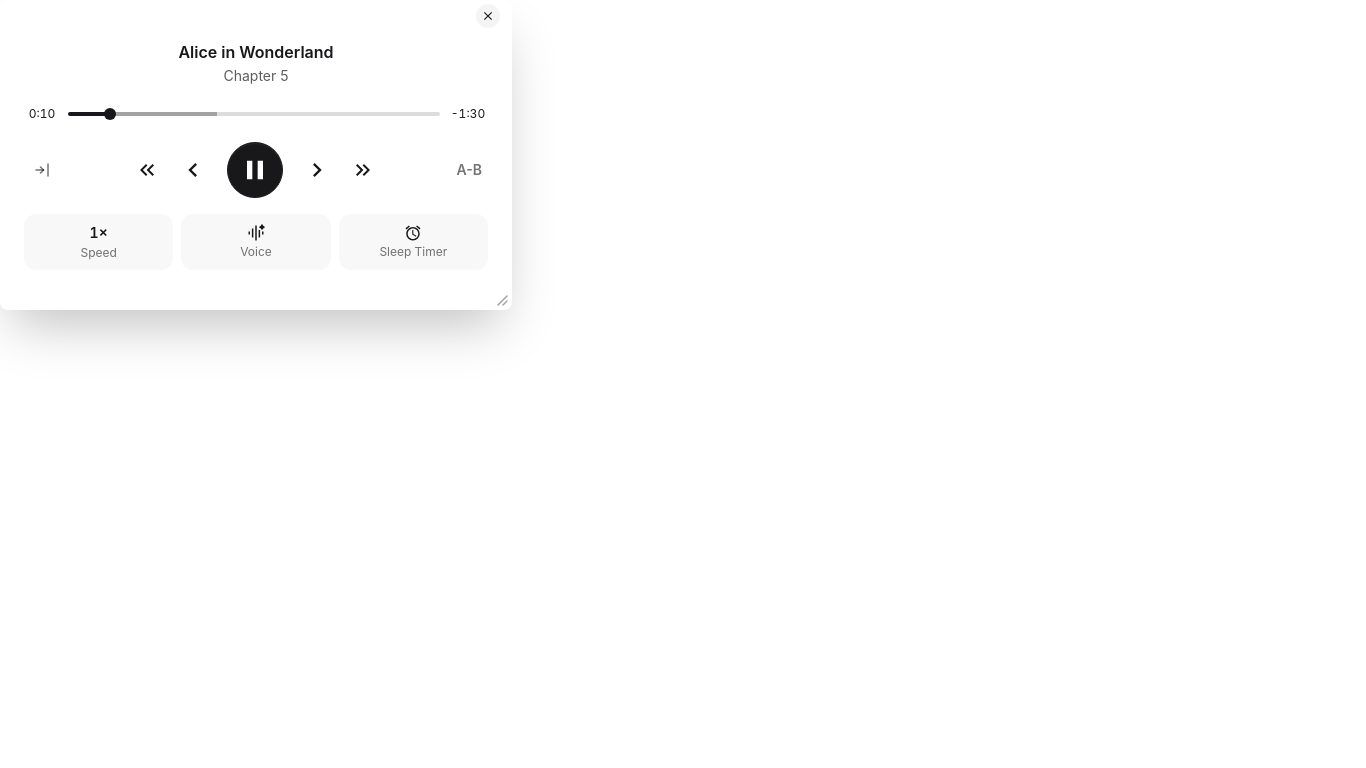
Test: TTSPlayerSheet › voice groups form an accordion opened on the current voice, foldable
The image size is (1366, 768).
Click the button labelled "Voice" at (256, 242), box [181,214,331,270]
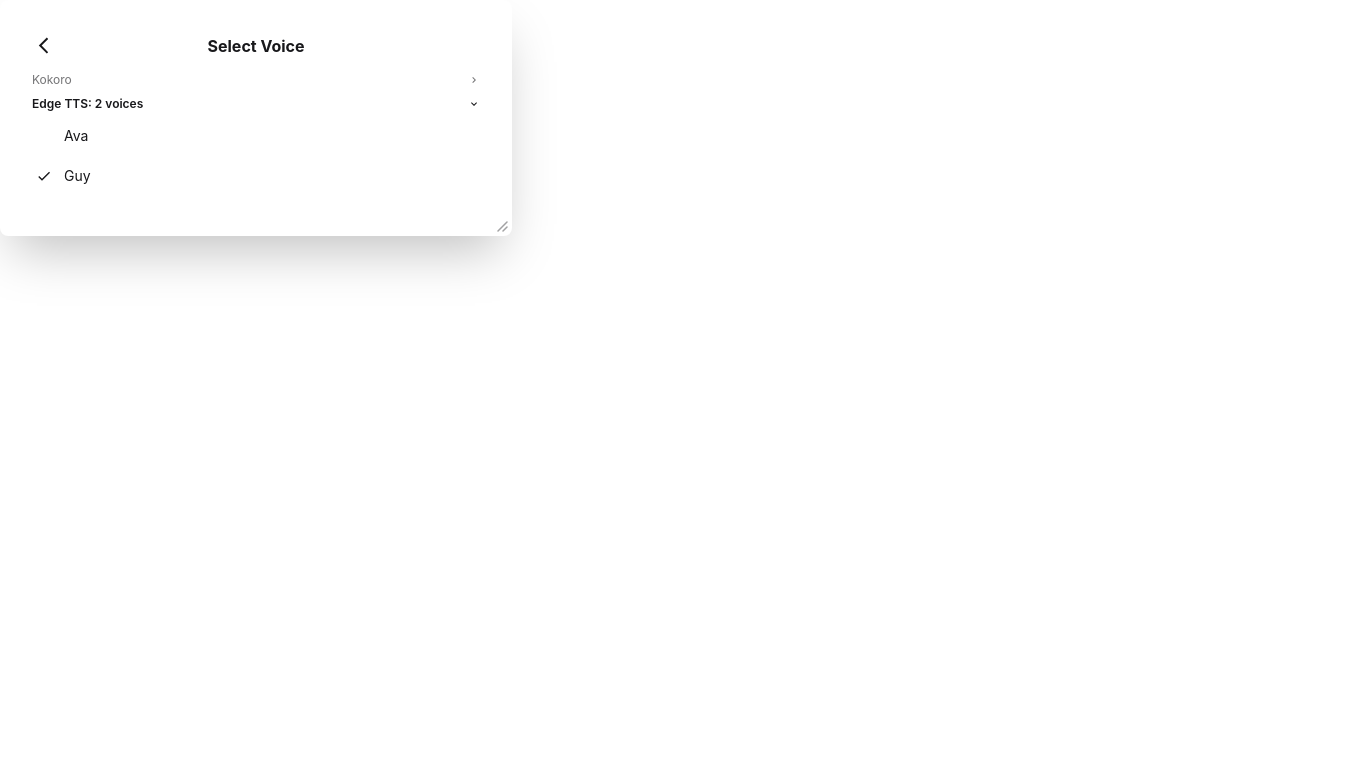
expect the text "af_heart" is not shown: met
expect the text "Guy" is shown: met, box [64,166,91,186]
Click the button "Kokoro" at (52, 80), box [24,68,488,92]
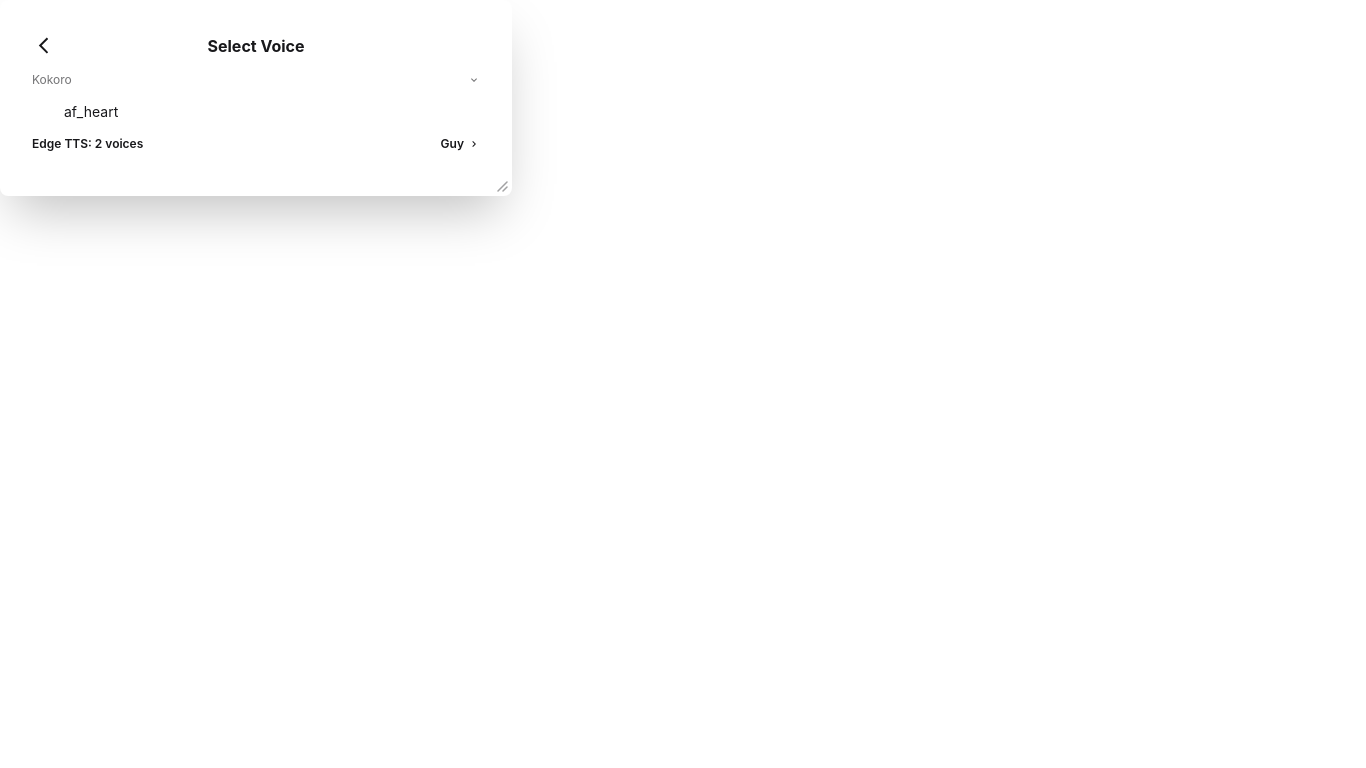
expect the text "af_heart" is shown: met, box [64,102,118,122]
Note: Tapping the open group folds it: at most one group is open.
Click the button "Kokoro" at (52, 80), box [24,68,488,92]
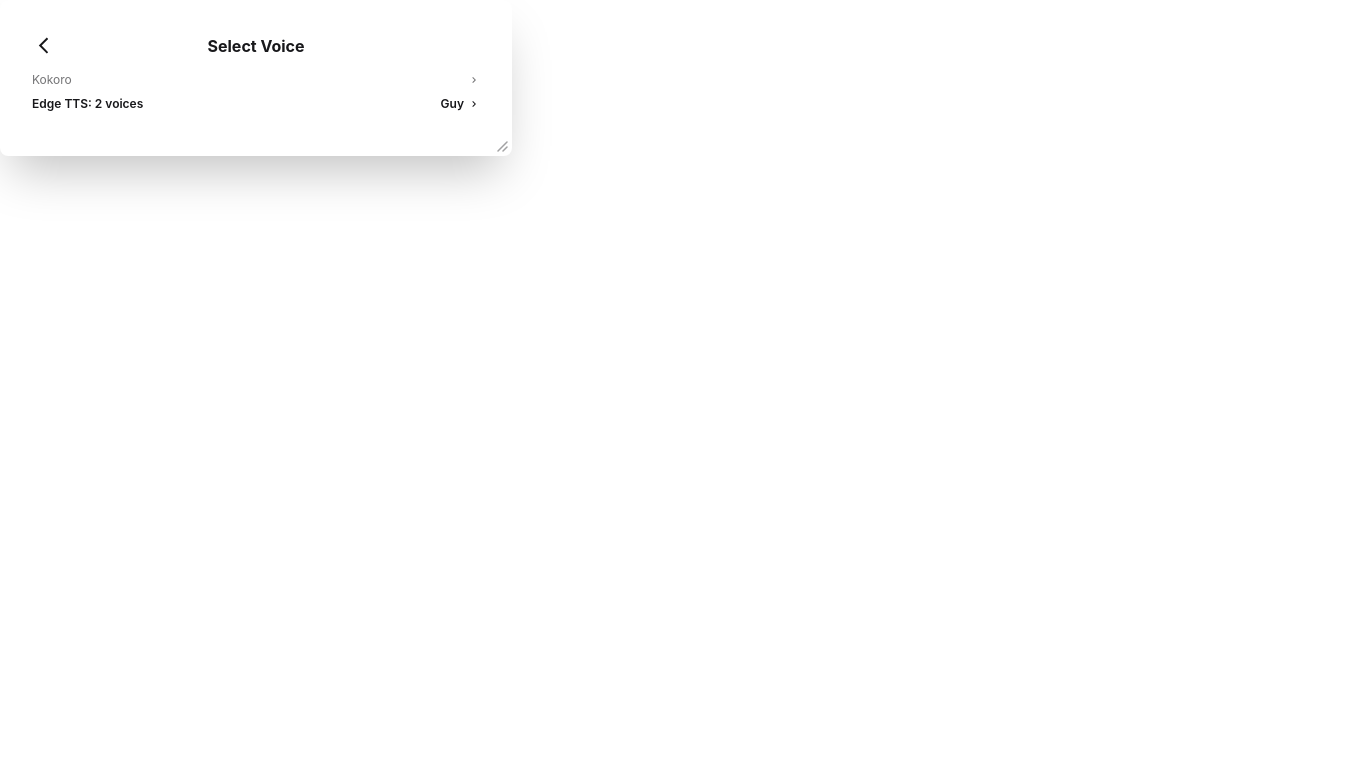
expect the button "Edge TTS: 2 voices Guy" is shown: met, box [24,92,488,116]
expect the button "af_heart" is gone: met
expect the button "Kokoro" no longer shows "af_heart": met
